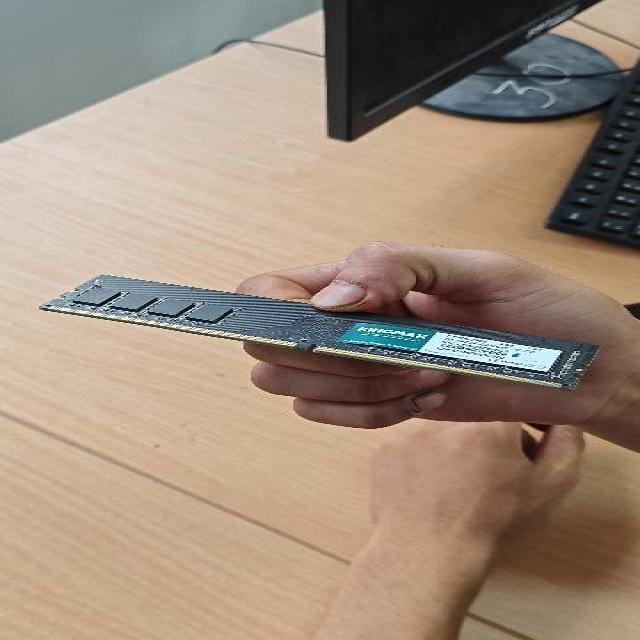RAM: (39, 252, 605, 400)
